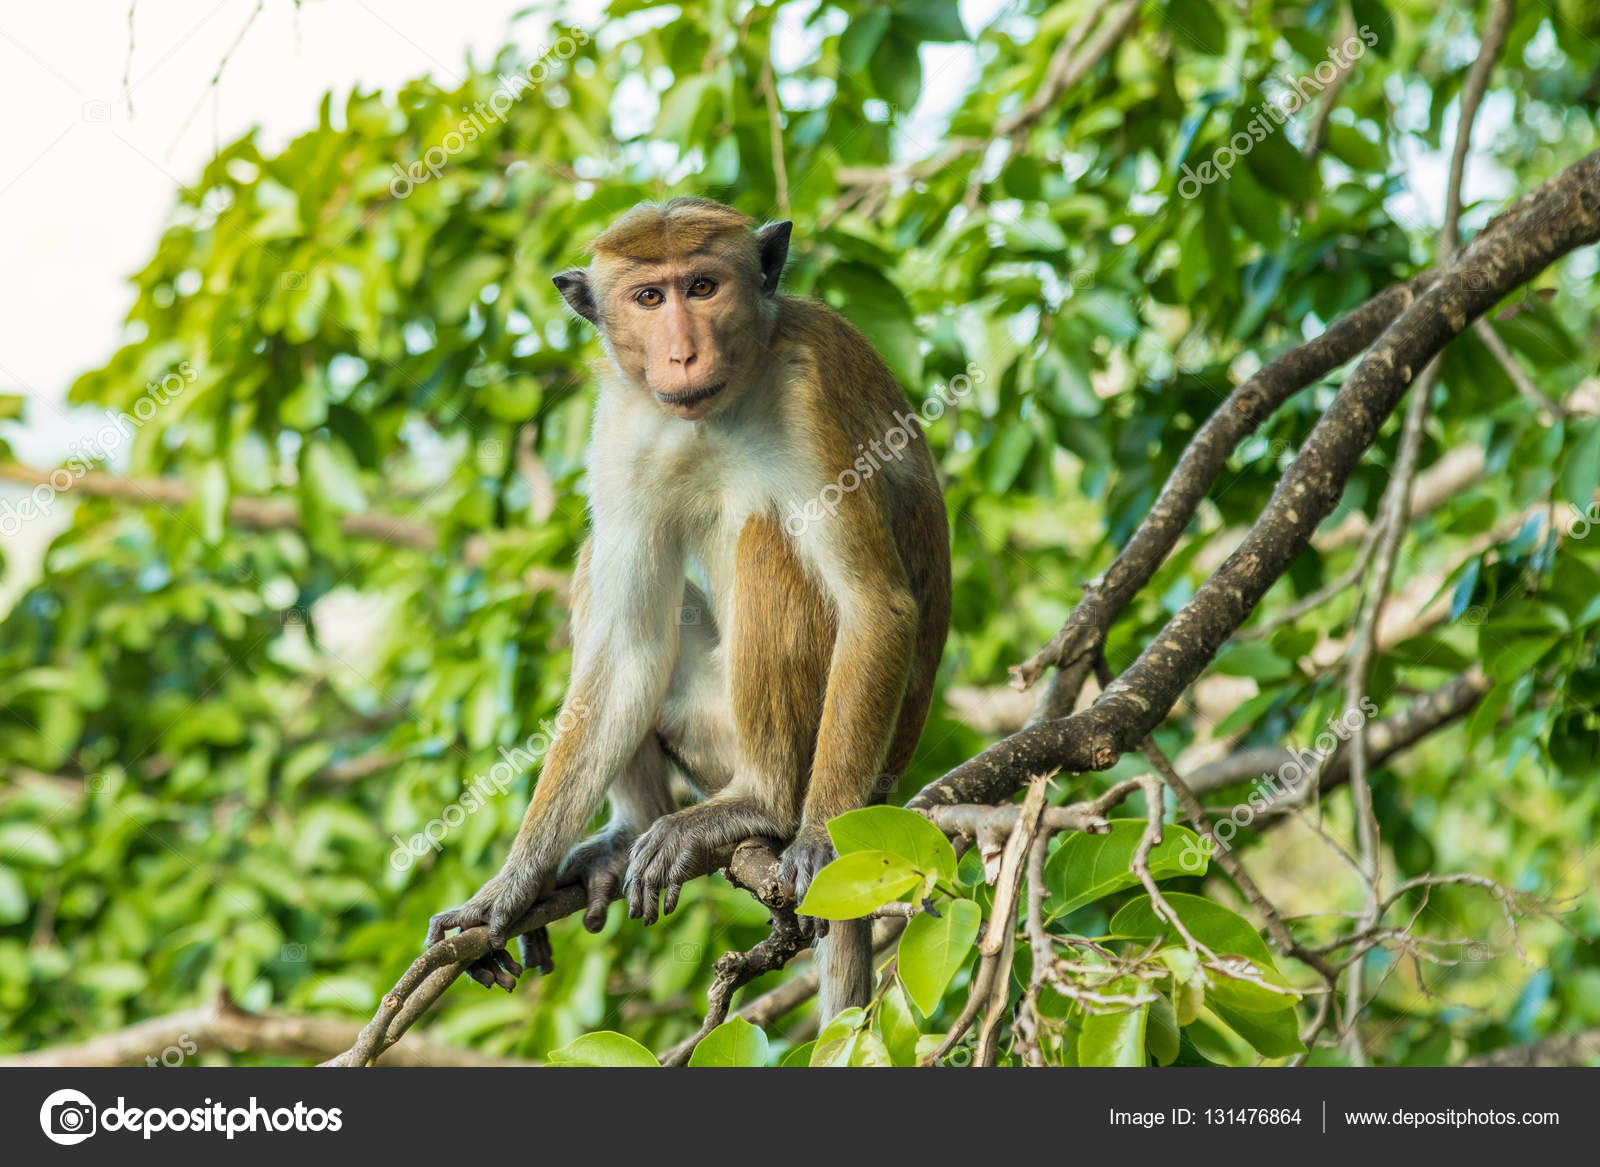Monkey: (394, 167, 980, 999)
